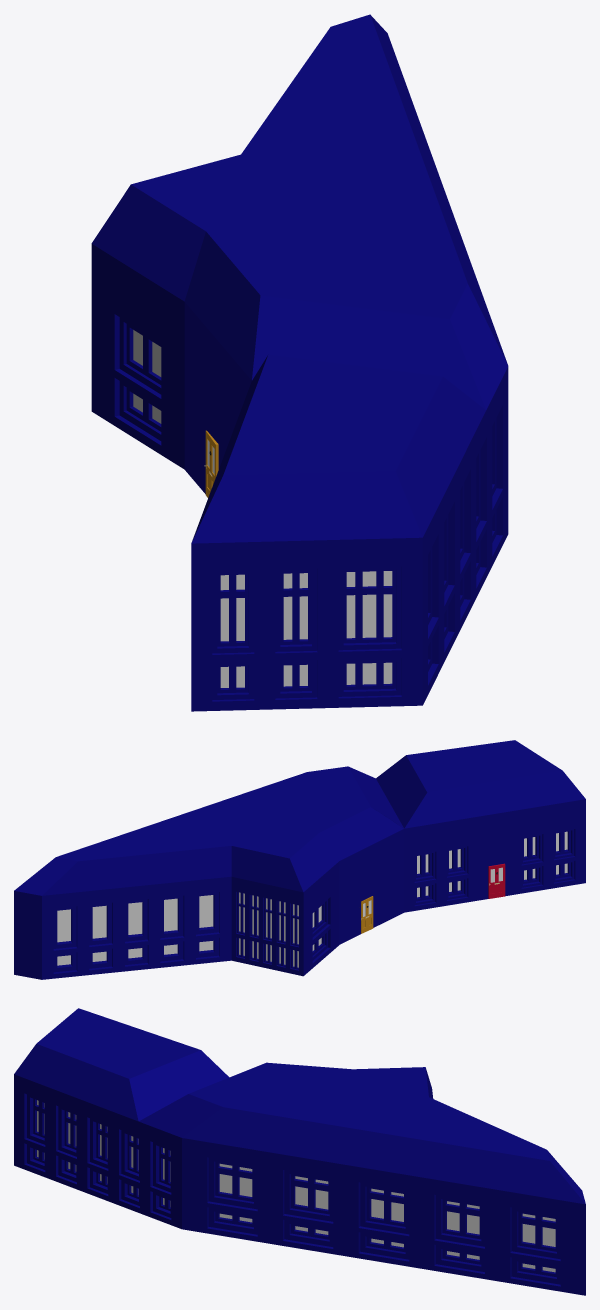
The model's file is KingstonStreetHouses4.fbx.
3 renders of one model, top to bottom at view 1: azimuth 30°, elevation 25°; view 2: azimuth 150°, elevation 25°; view 3: azimuth 270°, elevation 25°, orthographic. The views are drawn at different scales.
Visible parts, largest first — view 1: Vert.017; view 2: Vert.017, Cube.028, Cube.029; view 3: Vert.017.
Part boxes in pixels (<box>): Vert.017: <box>91,14,508,711</box>; Vert.017: <box>14,740,585,979</box>; Cube.028: <box>488,863,505,898</box>; Cube.029: <box>361,896,373,933</box>; Vert.017: <box>14,1008,585,1295</box>.
Size of the model in its own units: 4426 by 1409 by 6013.
